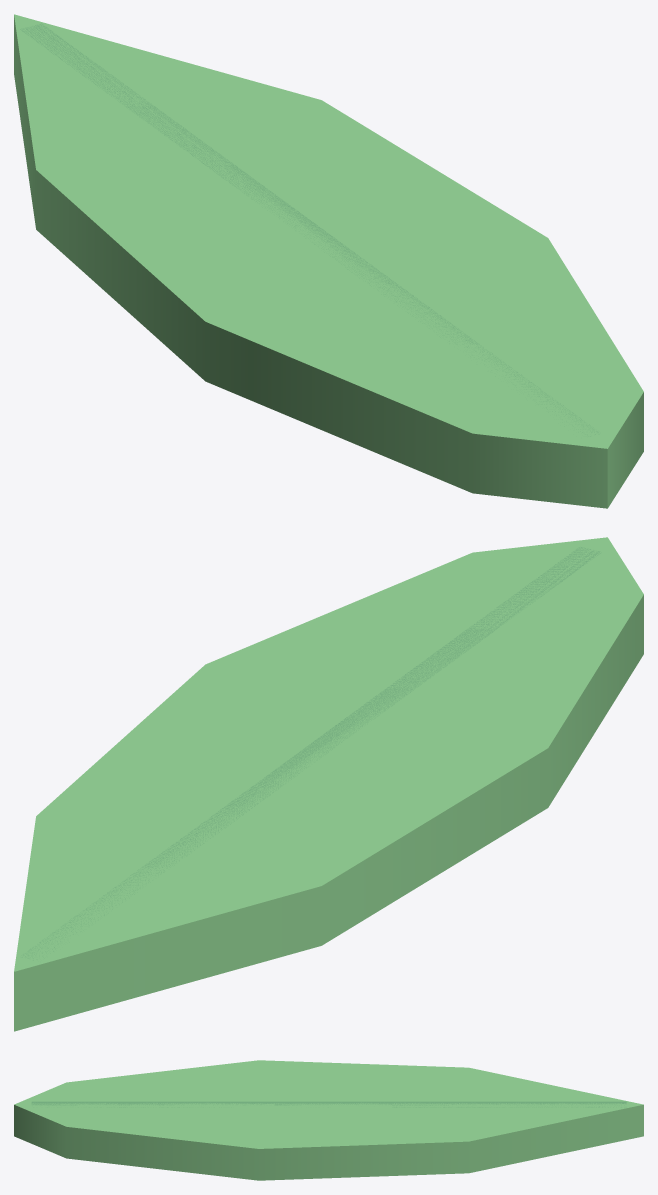
File: DebrisLeaf.fbx
3 renders of one model, top to bottom at view 1: azimuth 30°, elevation 25°; view 2: azimuth 150°, elevation 25°; view 3: azimuth 270°, elevation 25°, orthographic. The views are drawn at different scales.
Visible parts, largest first — view 1: DebrisLeaf; view 2: DebrisLeaf; view 3: DebrisLeaf.
Part boxes in pixels (<box>): DebrisLeaf: <box>14,14,643,508</box>; DebrisLeaf: <box>14,537,643,1031</box>; DebrisLeaf: <box>14,1060,643,1180</box>.
Size of the model in its own units: 0.12 by 0.02 by 0.36.
